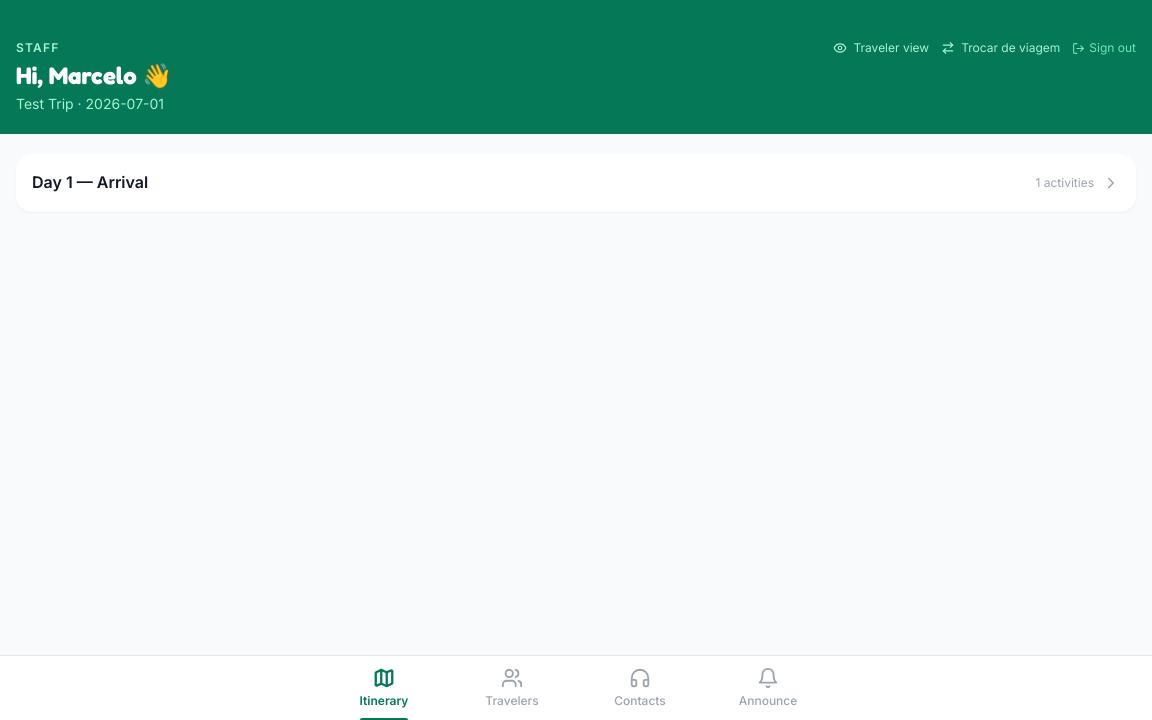
Test case: StaffScreen › explains when the next check-in step is not available yet
What coordinates should you click on to do the following:
click the text "Day 1 — Arrival"
I would click on:
 (90, 182)
Its box is [32,170,148,194].
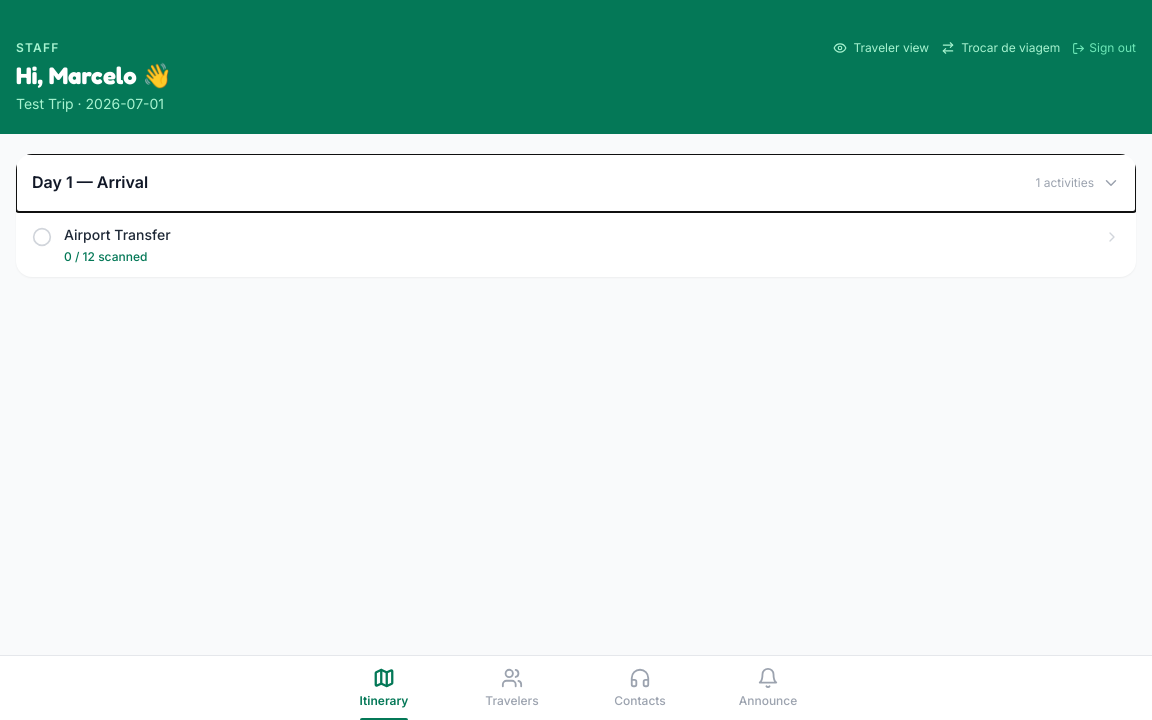
What coordinates should you click on to do the following:
click the text "Airport Transfer"
I would click on:
 (117, 234)
Its box is [64,226,171,243].
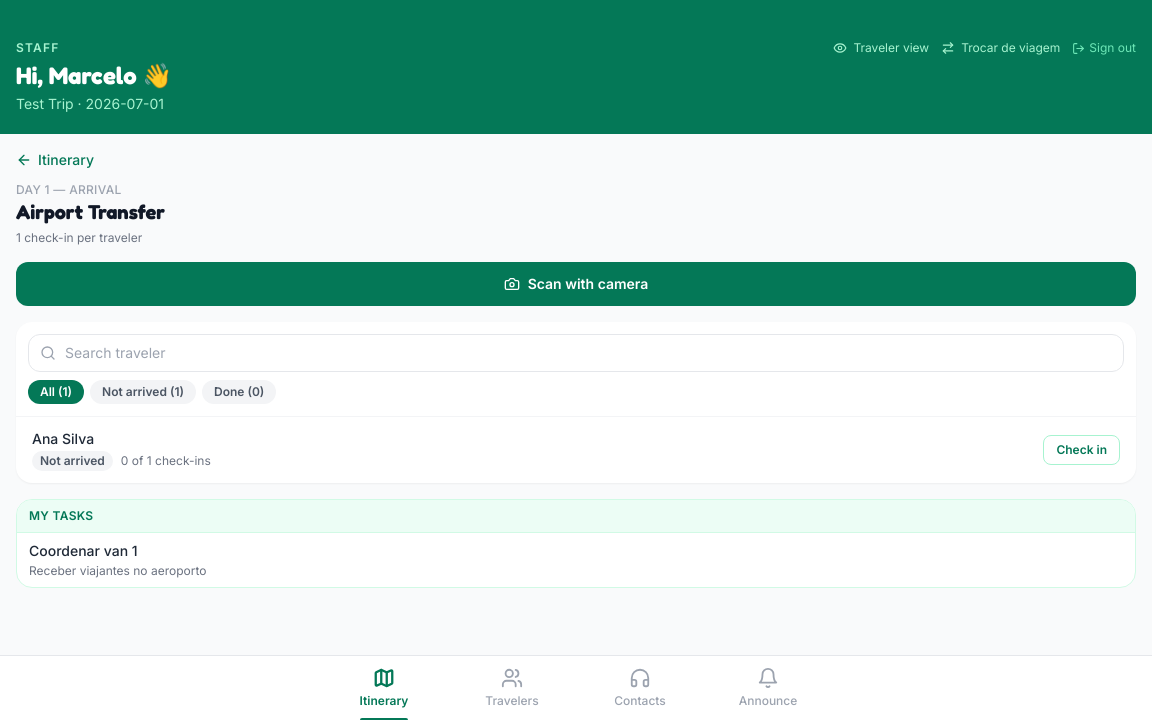
Check: the heading "Airport Transfer" is shown, box [16,200,165,224]
What coordinates should you click on to do the following:
click the button with aria-label "check in ana silva"
I would click on:
 (1082, 450)
Its box is [1043,435,1120,465].
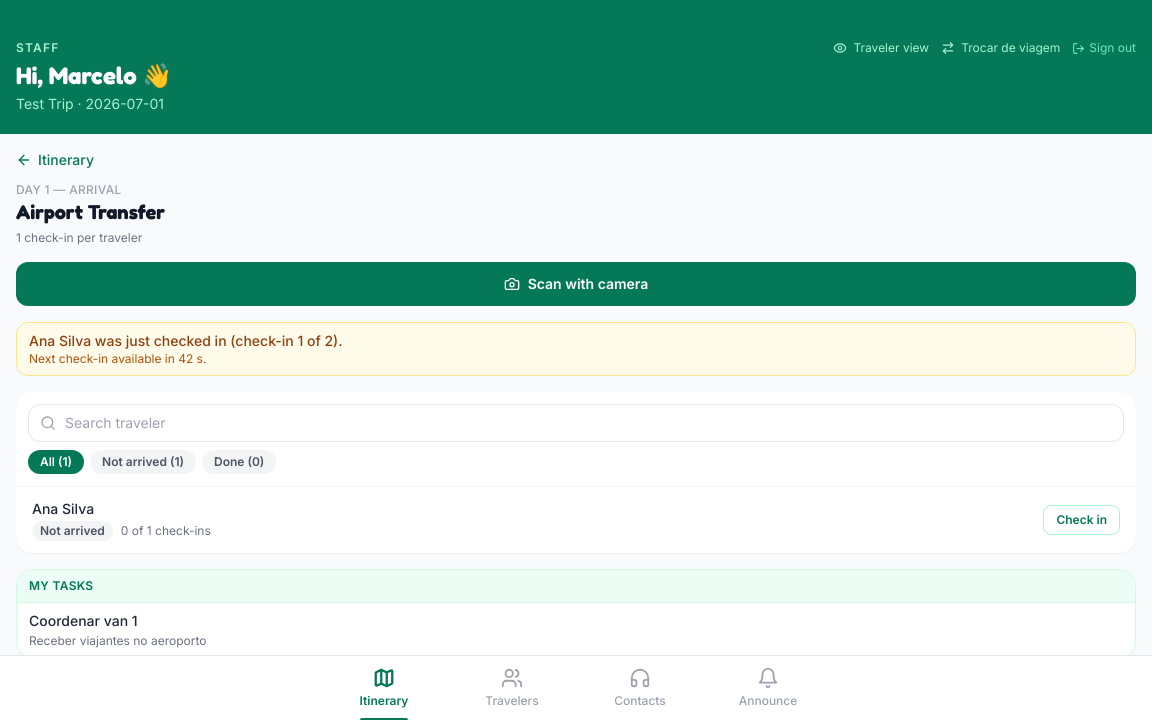
Check: the text "Ana Silva was just checked in (check-in 1 of 2)." is shown, box [29,332,342,349]
Check: the text "Next check-in available in 42 s." is shown, box [29,351,206,366]
